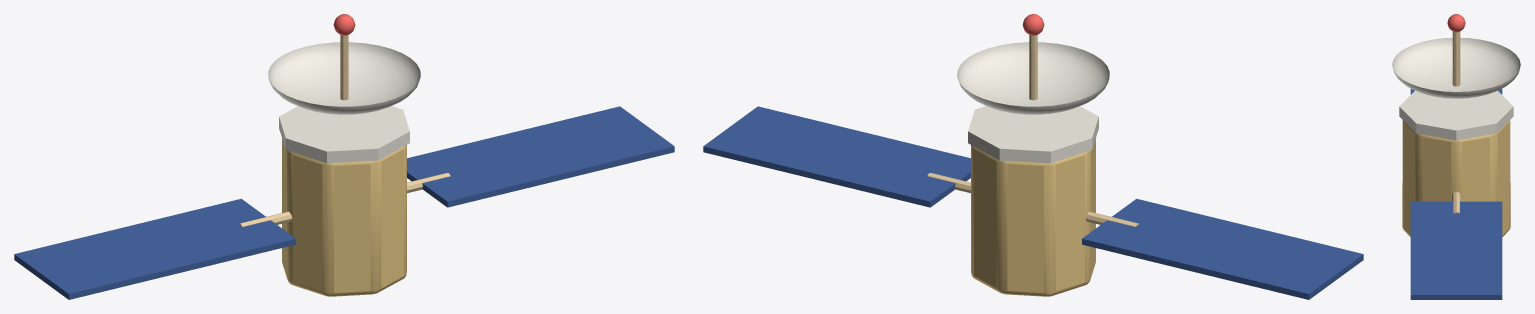
File: satellite.glb
3 views of the same model, side by side, from view 1: azimuth 30°, elevation 25°; view 2: azimuth 150°, elevation 25°; view 3: azimuth 270°, elevation 25° (orthographic). The views are drawn at different scales.
Parts seen in each view (by area): view 1: Cylinder, Cube, Cube.001, Sphere, Cylinder.001, Cylinder.004; view 2: Cylinder, Cube, Cube.001, Sphere, Cylinder.001, Cylinder.004; view 3: Cube.001, Cylinder, Sphere, Cylinder.001, Cylinder.004, Sphere.001, Cylinder.003.
Part boxes in pixels (left/top/right/bottom): Cylinder: left=282, top=138, right=406, bottom=296; Cube: left=14, top=198, right=295, bottom=299; Cube.001: left=407, top=106, right=674, bottom=207; Sphere: left=268, top=42, right=420, bottom=114; Cylinder.001: left=279, top=106, right=409, bottom=163; Cylinder.004: left=340, top=35, right=348, bottom=100; Cylinder: left=971, top=138, right=1095, bottom=296; Cube: left=1082, top=198, right=1363, bottom=299; Cube.001: left=703, top=106, right=970, bottom=207; Sphere: left=957, top=42, right=1109, bottom=114; Cylinder.001: left=968, top=106, right=1098, bottom=163; Cylinder.004: left=1029, top=35, right=1037, bottom=100; Cube.001: left=1410, top=201, right=1502, bottom=299; Cylinder: left=1402, top=120, right=1510, bottom=236; Sphere: left=1392, top=37, right=1520, bottom=98; Cylinder.001: left=1399, top=91, right=1513, bottom=140; Cylinder.004: left=1452, top=31, right=1460, bottom=86; Sphere.001: left=1447, top=14, right=1465, bottom=32; Cylinder.003: left=1452, top=192, right=1460, bottom=213.
Bounding box in the file's own units: 0.64 × 0.26 × 0.14.
